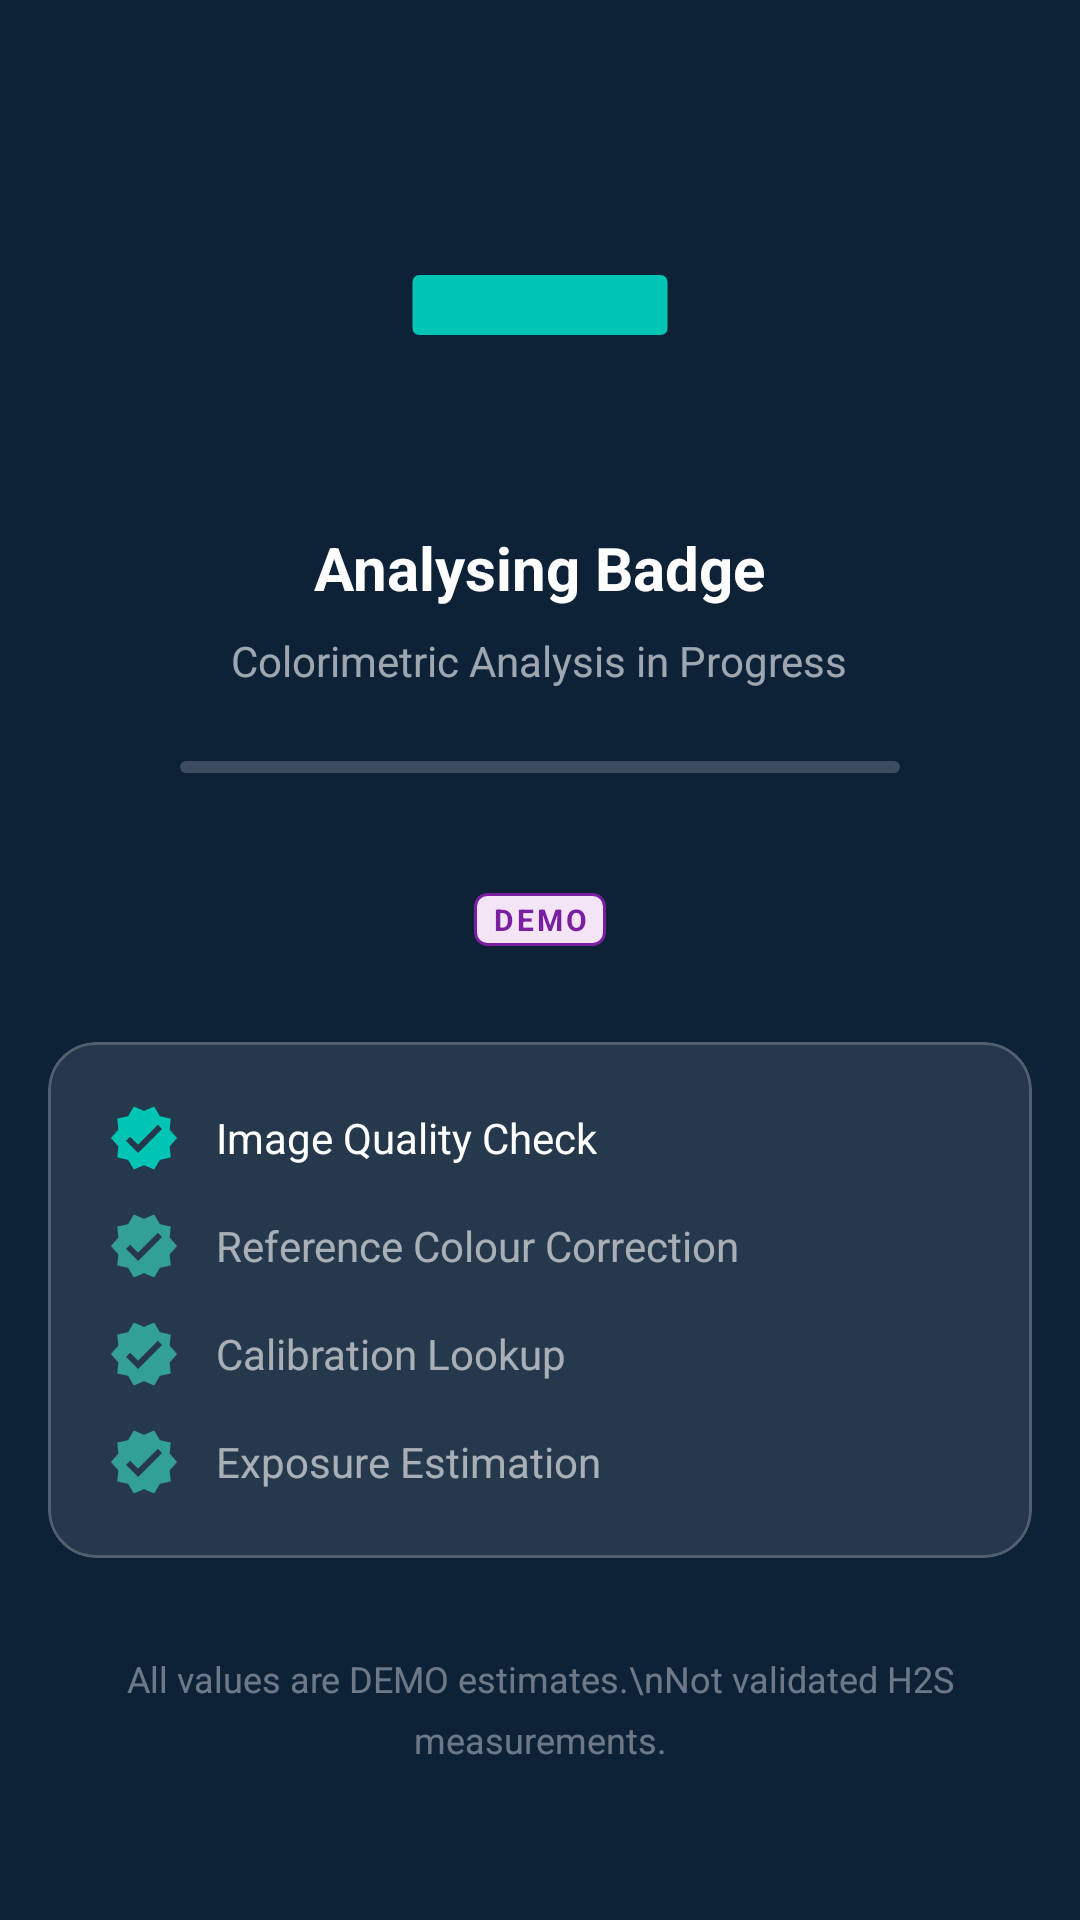

Named icons in this screenshot (1080px x 1920px) and their bounding boxes, BBox(x1, y1, x2, y2):
verified: BBox(111, 1106, 177, 1170), BBox(111, 1215, 177, 1278), BBox(111, 1323, 177, 1386), BBox(111, 1431, 177, 1494)
